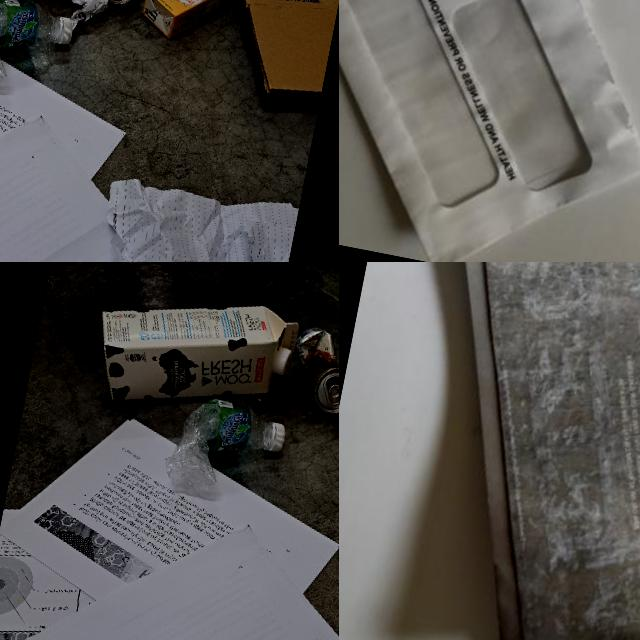aba de lata: (323, 383, 339, 406)
caixinha: (88, 276, 303, 433), (137, 0, 249, 52)
garrafa plástica: (166, 388, 292, 504), (0, 0, 59, 100)
lata: (285, 324, 339, 419)
papel: (369, 262, 640, 640), (0, 395, 339, 640), (339, 0, 640, 262), (0, 5, 175, 262), (66, 169, 299, 262), (64, 0, 110, 36)
papelão: (164, 0, 339, 106)
tampa plástica: (259, 419, 289, 458), (270, 344, 294, 380), (56, 16, 75, 46)
